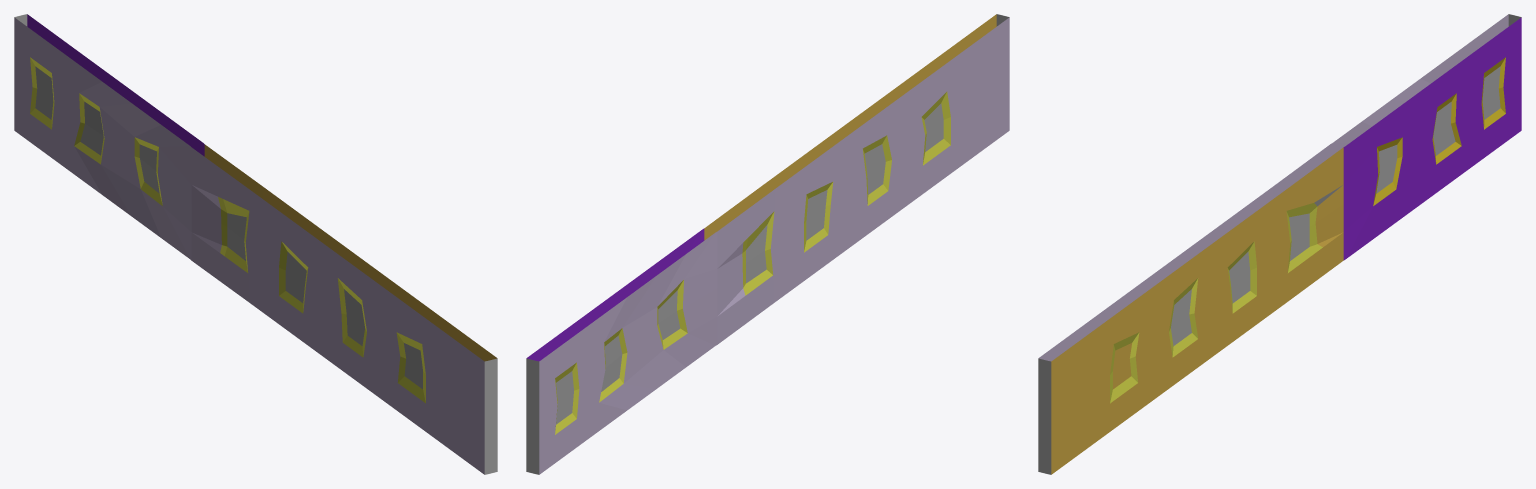
File: SM_SchoolWallSouthBottom_1.1.fbx
3 views of the same model, side by side, from view 1: azimuth 30°, elevation 25°; view 2: azimuth 150°, elevation 25°; view 3: azimuth 330°, elevation 25° (orthographic).
Parts seen in each view (by area): view 1: SM_SchoolWallSouthBottom; view 2: SM_SchoolWallSouthBottom; view 3: SM_SchoolWallSouthBottom.
Boxes of the visible parts, x1,y1,x2,y2 form: SM_SchoolWallSouthBottom: (14,14,497,474); SM_SchoolWallSouthBottom: (526,14,1009,474); SM_SchoolWallSouthBottom: (1038,14,1521,474).
Size of the model in its own units: 61.54 by 500 by 3760.
